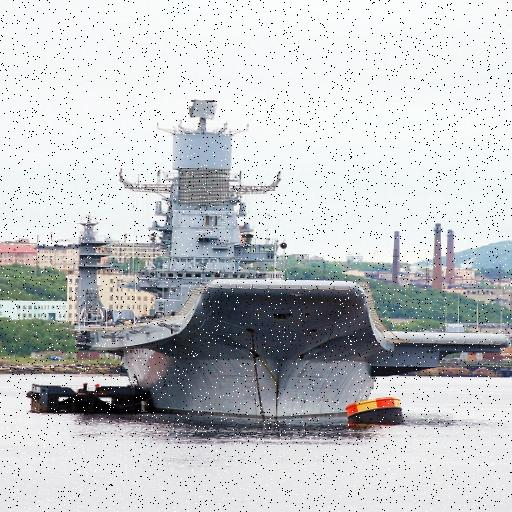Portanaves: (58, 94, 512, 438)
